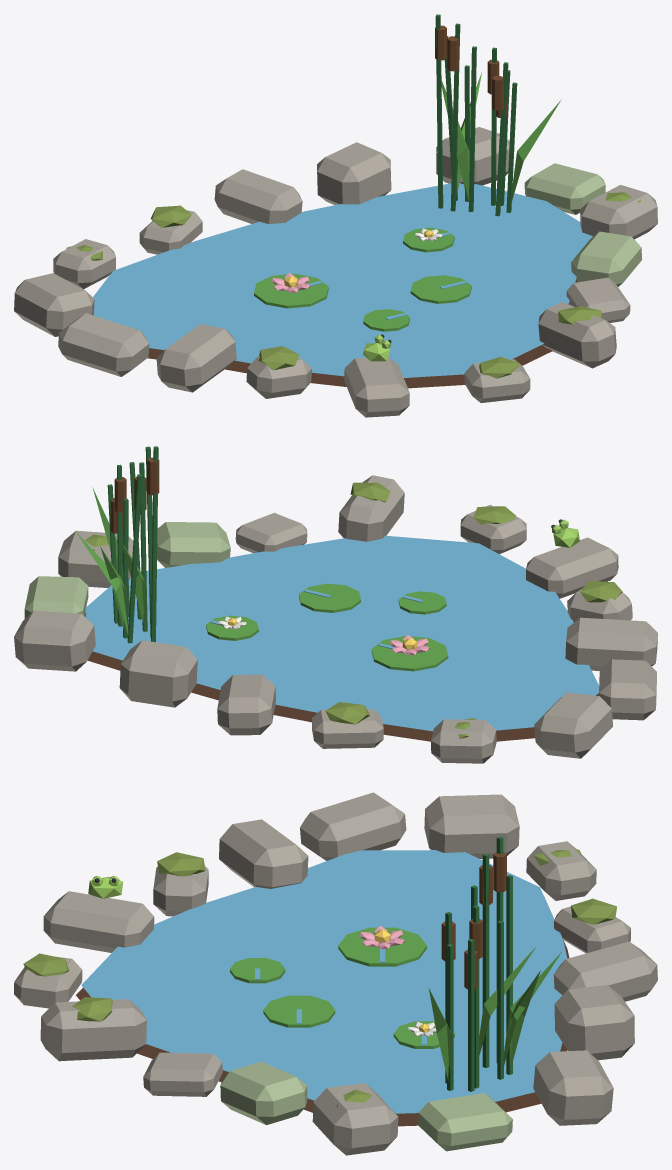
Rendered from garden_pond.glb.
3 renders of one model, top to bottom at view 1: azimuth 30°, elevation 25°; view 2: azimuth 150°, elevation 25°; view 3: azimuth 270°, elevation 25°, orthographic. The views are drawn at different scales.
Parts seen in each view (by area): view 1: Garden Pond; view 2: Garden Pond; view 3: Garden Pond.
Part boxes in pixels (<box>): Garden Pond: <box>14,14,657,417</box>; Garden Pond: <box>14,446,657,763</box>; Garden Pond: <box>14,792,657,1155</box>.
Bounding box in the file's own units: 2.83 × 0.951 × 2.32.
1 material, 1 textured.
